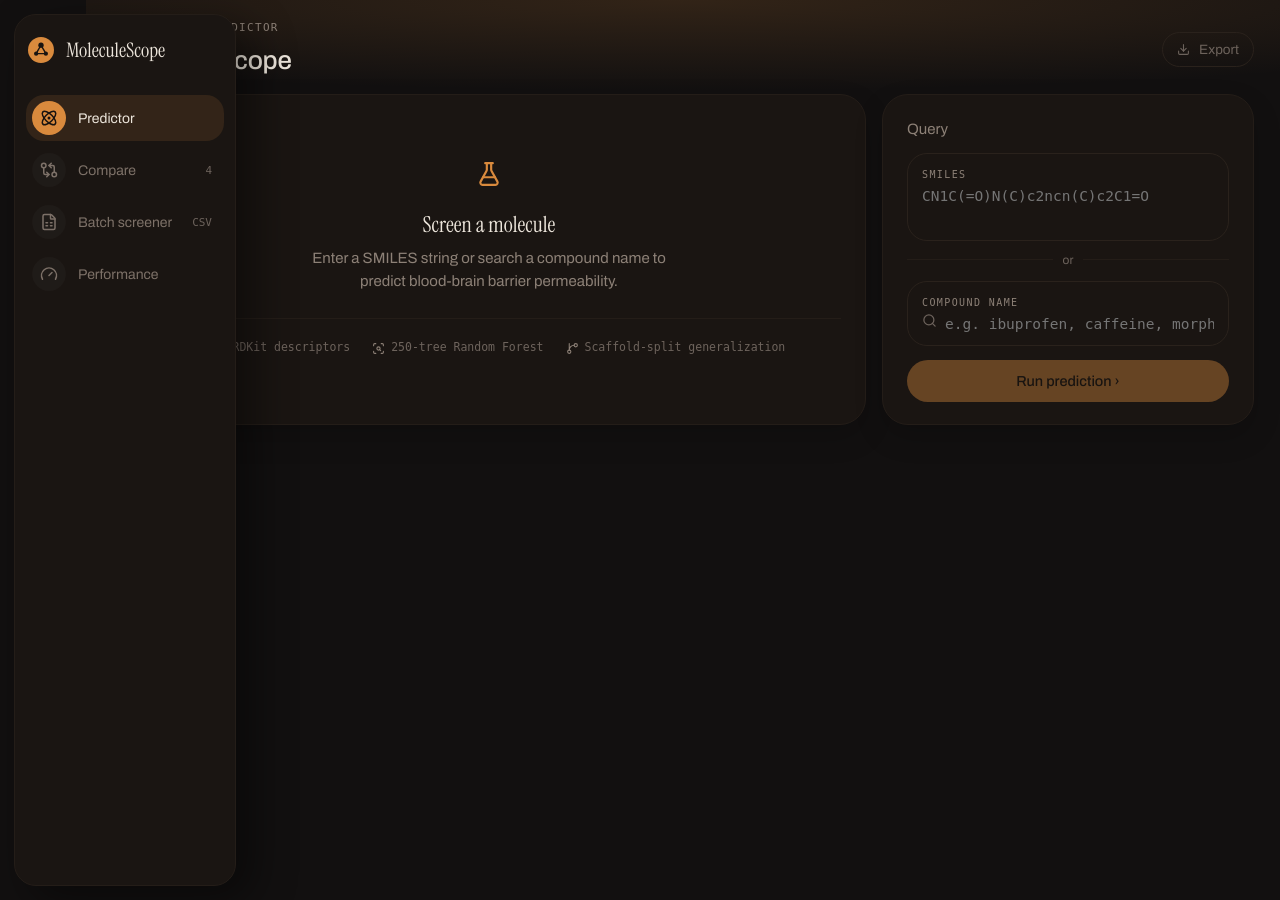
MoleculeScope Frontend Unit Tests › 5. Loading state appears during active fetch requests
Step 1. Type "CCO" into the text box with id "smiles-input" → (1068, 200), box [922, 182, 1214, 220]
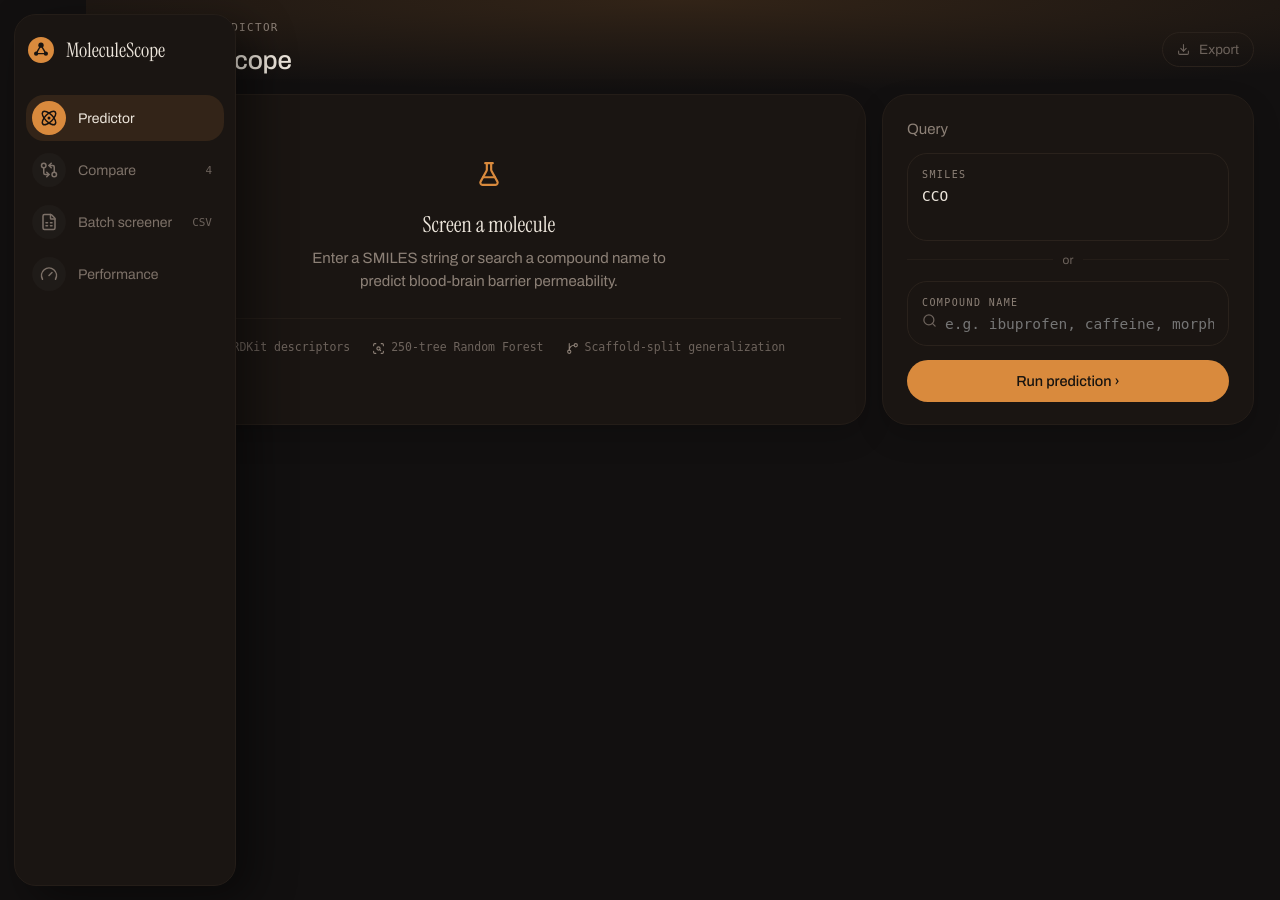
Step 2. Click the button "Run prediction ›" → (1068, 380), box [907, 360, 1229, 402]
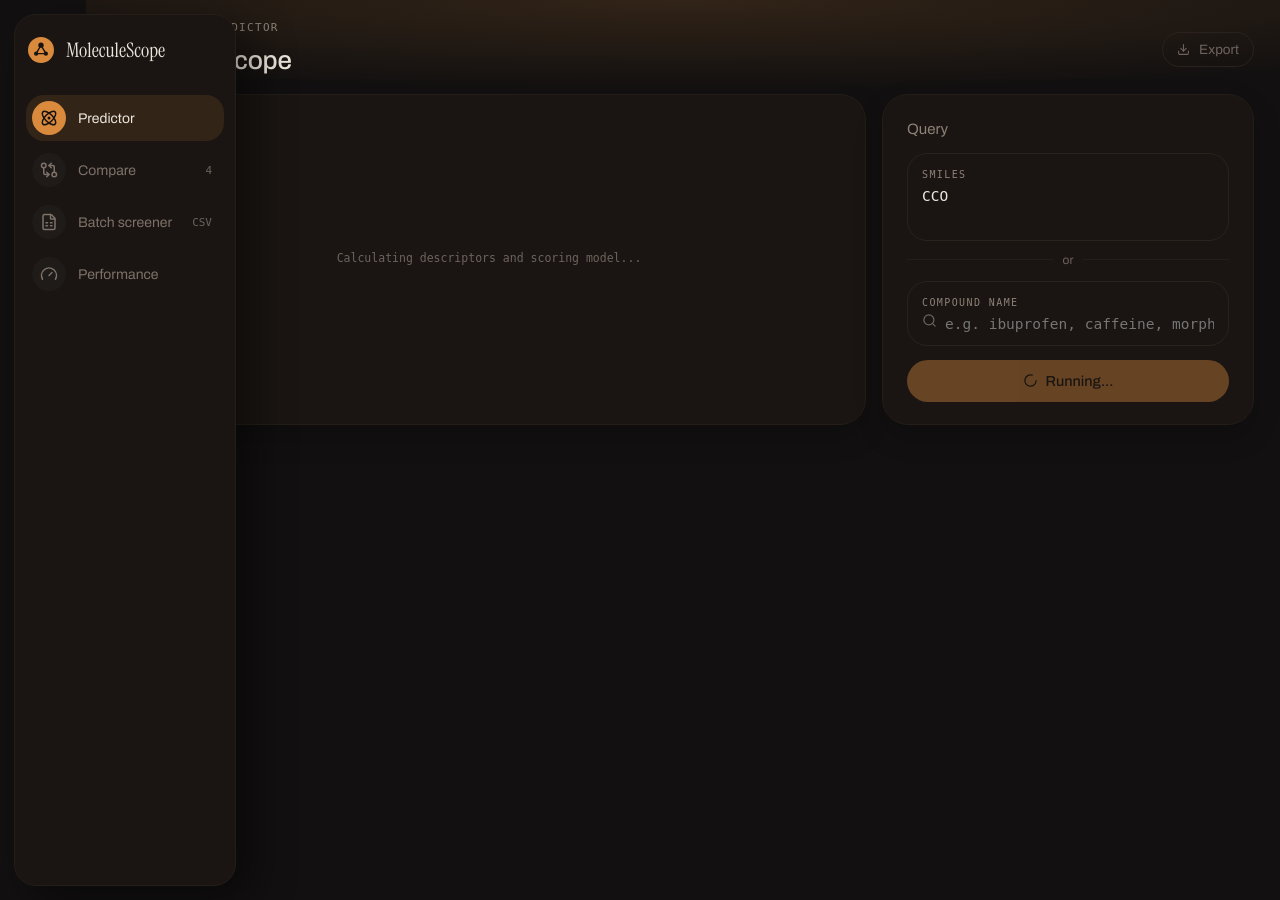
Expected: the button "Running..." is disabled, [907, 360, 1229, 402]
